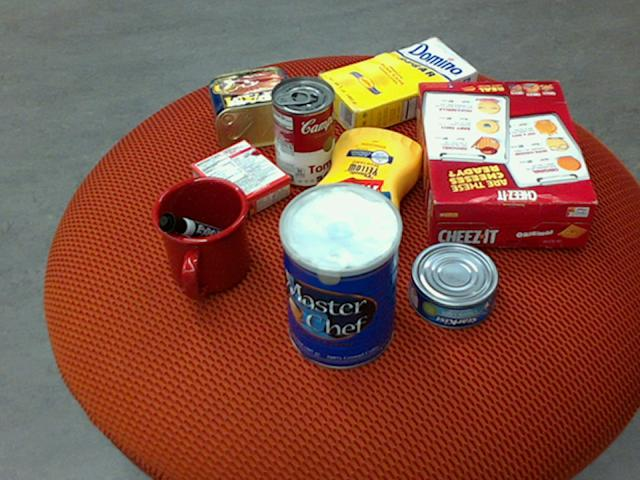cracker_box: (416, 80, 598, 245)
gelatin_box: (189, 138, 289, 223)
large_marker: (157, 213, 238, 250)
master_chef_can: (276, 184, 399, 370)
mug: (149, 176, 250, 299)
mustard_bottle: (306, 127, 423, 272)
potted_meat_can: (210, 66, 305, 150)
sugar_box: (317, 36, 478, 136)
tomato_soup_can: (271, 74, 335, 185)
tuna_fish_can: (409, 241, 500, 329)
